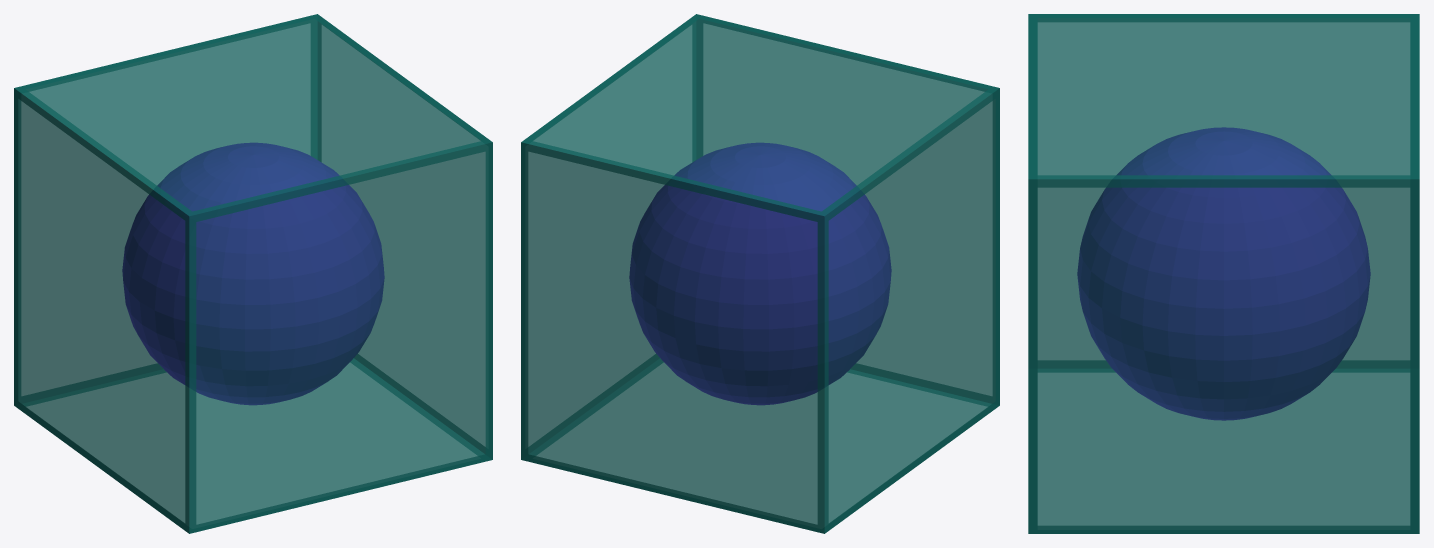
File: cell-sphere.dae
3 views of the same model, side by side, from view 1: azimuth 30°, elevation 25°; view 2: azimuth 150°, elevation 25°; view 3: azimuth 270°, elevation 25° (orthographic). The views are drawn at different scales.
Visible parts, largest first — view 1: Cell-Sphere; view 2: Cell-Sphere; view 3: Cell-Sphere.
Part boxes in pixels (x1=…): Cell-Sphere: x1=14, y1=14, x2=492, y2=533; Cell-Sphere: x1=521, y1=14, x2=999, y2=533; Cell-Sphere: x1=1028, y1=14, x2=1419, y2=533.
Bounding box in the file's own units: 0.6667 × 0.6667 × 0.6667.
